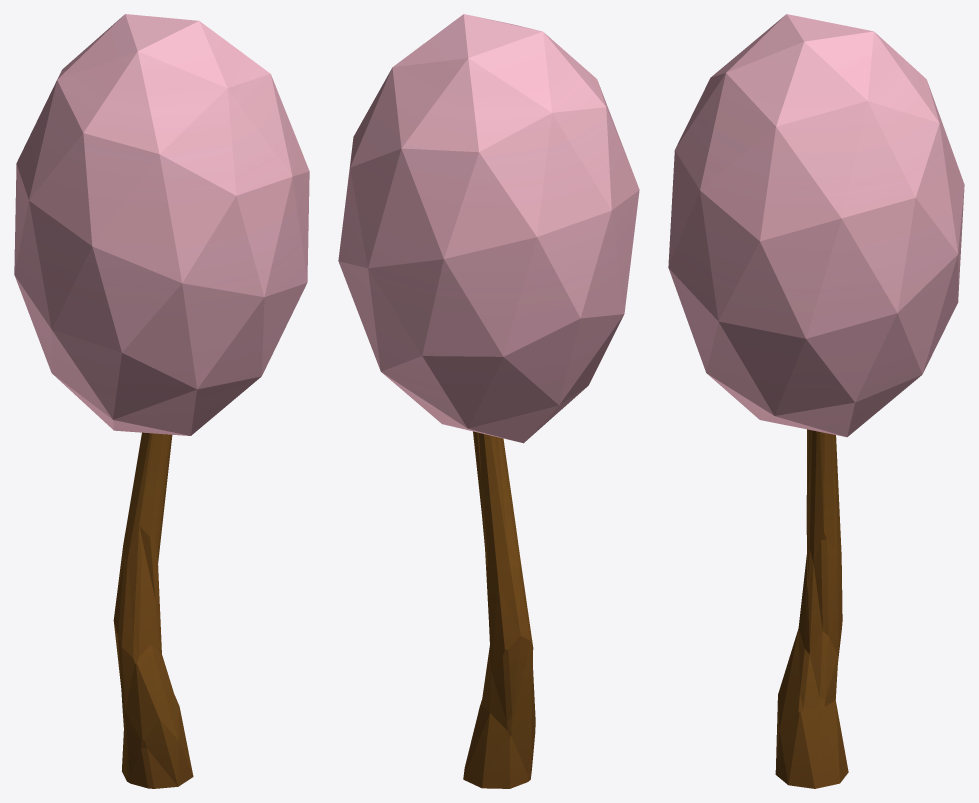
File: tree_poplar.glb
3 renders of one model, left to right at view 1: azimuth 30°, elevation 25°; view 2: azimuth 150°, elevation 25°; view 3: azimuth 270°, elevation 25°, orthographic.
Visible parts, largest first — view 1: Poplar Tree_4_AA; view 2: Poplar Tree_4_AA; view 3: Poplar Tree_4_AA.
Boxes of the visible parts, x1,y1,x2,y2 form: Poplar Tree_4_AA: (14, 14, 309, 788); Poplar Tree_4_AA: (338, 14, 639, 788); Poplar Tree_4_AA: (668, 14, 964, 788).
Bounding box in the file's own units: 1.56 × 4.36 × 1.56.
1 material, 1 textured.
